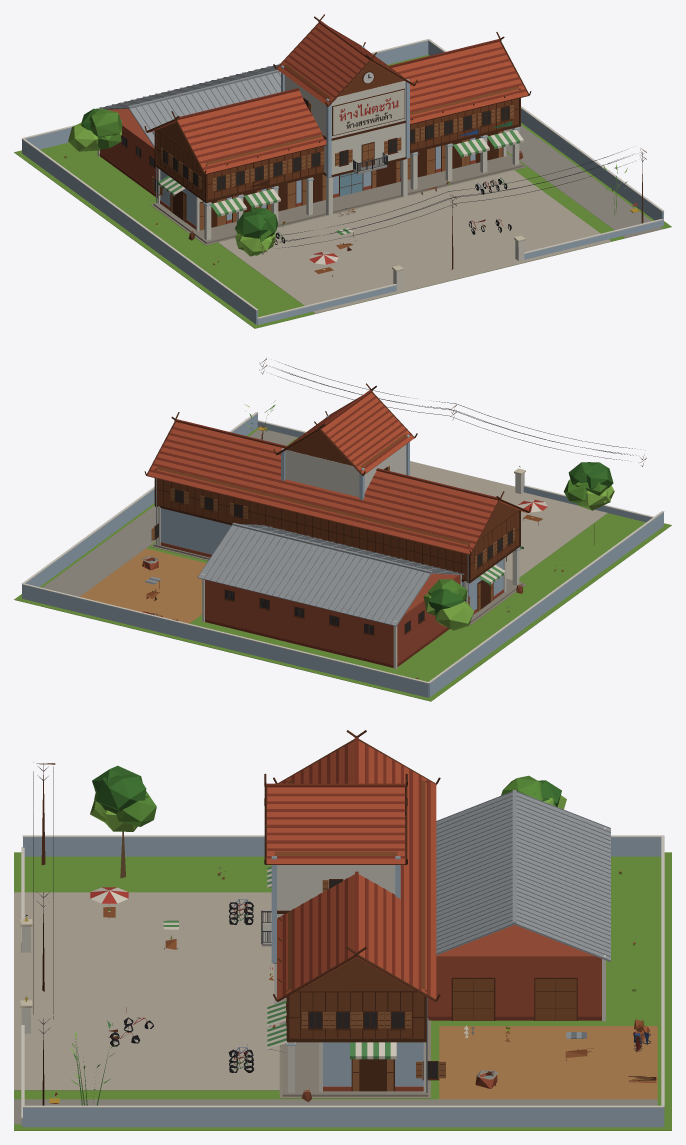
The model's file is store.glb.
3 renders of one model, top to bottom at view 1: azimuth 30°, elevation 25°; view 2: azimuth 150°, elevation 25°; view 3: azimuth 270°, elevation 25°, orthographic. The views are drawn at different scales.
Parts seen in each view (by area): view 1: body, windows; view 2: body, windows; view 3: body, windows.
Part boxes in pixels (bbox=[...]): body: bbox=[14, 14, 671, 328]; windows: bbox=[122, 98, 509, 191]; body: bbox=[14, 357, 671, 701]; windows: bbox=[155, 468, 512, 634]; body: bbox=[14, 730, 671, 1130]; windows: bbox=[24, 880, 437, 1078].
Size of the model in its own units: 47.9 by 17.49 by 47.9.
